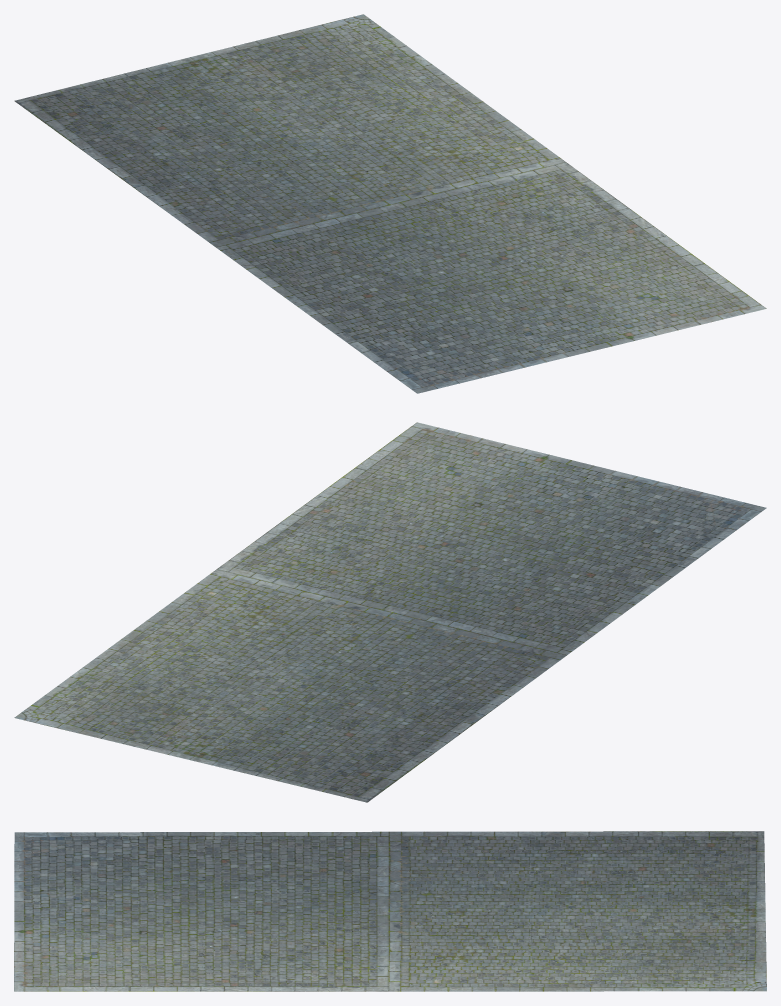
Rendered from cobblestone_ground_-_lowpoly.glb.
The picture shows the model from 3 angles, top to bottom: view 1: azimuth 30°, elevation 25°; view 2: azimuth 150°, elevation 25°; view 3: azimuth 270°, elevation 25°; orthographic projection. The views are drawn at different scales.
Parts seen in each view (by area): view 1: Object_2; view 2: Object_2; view 3: Object_2.
Boxes of the visible parts, bbox=[...] form: Object_2: bbox=[14, 14, 766, 393]; Object_2: bbox=[14, 422, 766, 802]; Object_2: bbox=[14, 831, 766, 991].
Bounding box in the file's own units: 4 × 1.78e-15 × 7.94.
Materials: 1 (1 with a texture image).
